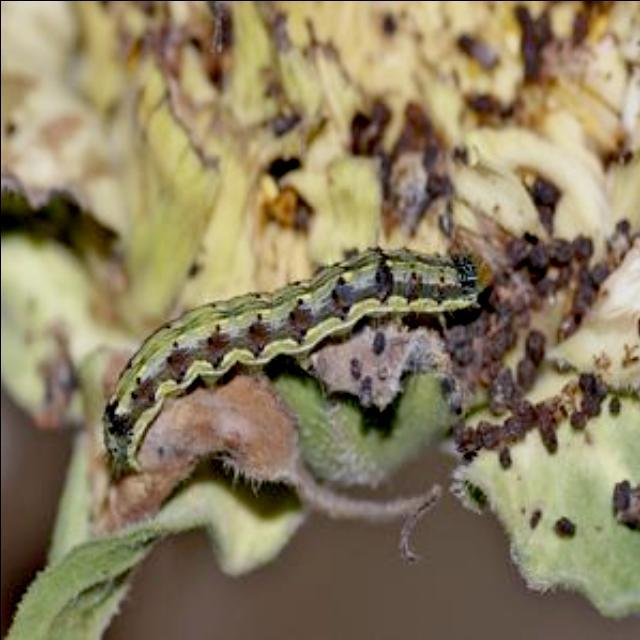Cotton bollworm: (74, 187, 493, 511)
